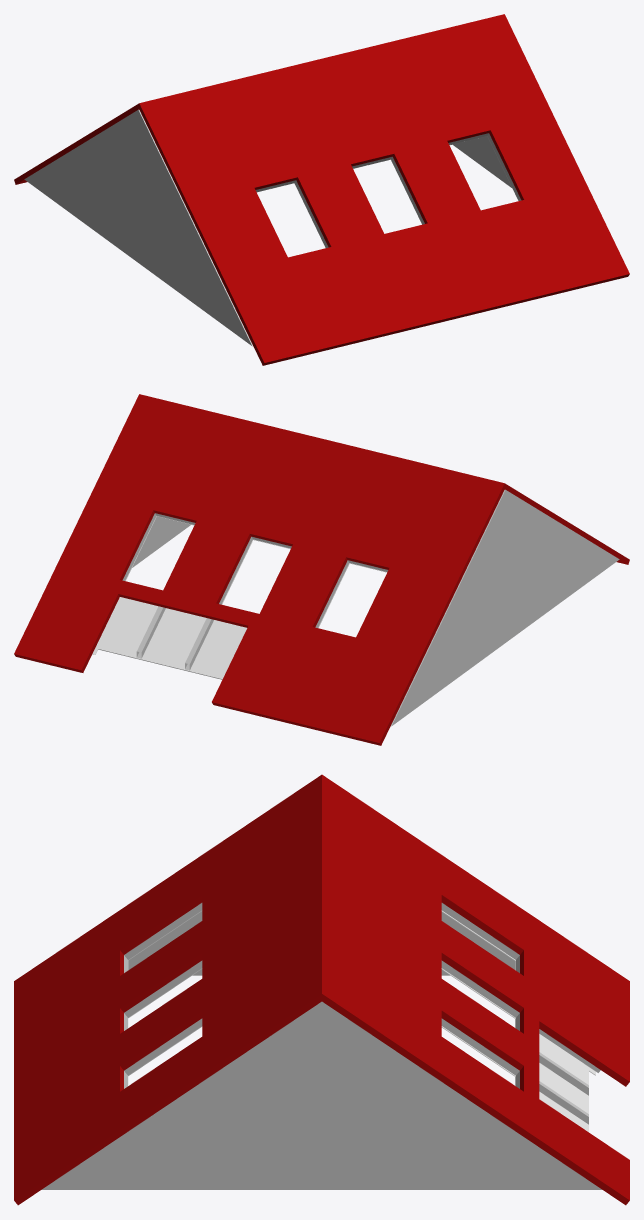
Rendered from Yogaraum_balken_v2-Dach.gltf.
3 views of the same model, one above another, from view 1: azimuth 30°, elevation 25°; view 2: azimuth 150°, elevation 25°; view 3: azimuth 270°, elevation 25° (orthographic). The views are drawn at different scales.
Visible parts, largest first — view 1: Cut045, Extrusion010, Extrusion005, Cut042, Cut055; view 2: Cut042, Extrusion010, Cut056, Cut055, Extrusion005, Cut045; view 3: Cut045, Cut042, Extrusion005, Cut055, Cut056, Extrusion010.
Part boxes in pixels (<box>): Cut045: <box>138,14,629,365</box>; Extrusion010: <box>24,109,252,346</box>; Extrusion005: <box>453,136,511,187</box>; Cut042: <box>14,103,139,184</box>; Cut055: <box>294,133,521,247</box>; Cut042: <box>14,394,505,745</box>; Extrusion010: <box>391,489,619,726</box>; Cut056: <box>92,516,387,679</box>; Cut055: <box>122,513,349,670</box>; Extrusion005: <box>132,516,190,567</box>; Cut045: <box>503,483,629,564</box>; Cut045: <box>14,774,325,1205</box>; Cut042: <box>318,774,629,1205</box>; Extrusion005: <box>41,1001,602,1189</box>; Cut055: <box>124,903,600,1124</box>; Cut056: <box>441,910,595,1132</box>; Extrusion010: <box>128,911,514,975</box>.
Bounding box in the file's own units: 7.6 × 3.41 × 9.
